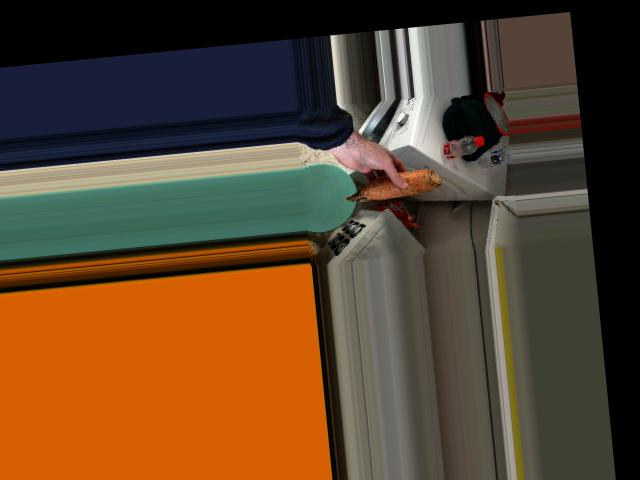sweet_potato: (341, 160, 446, 205)
